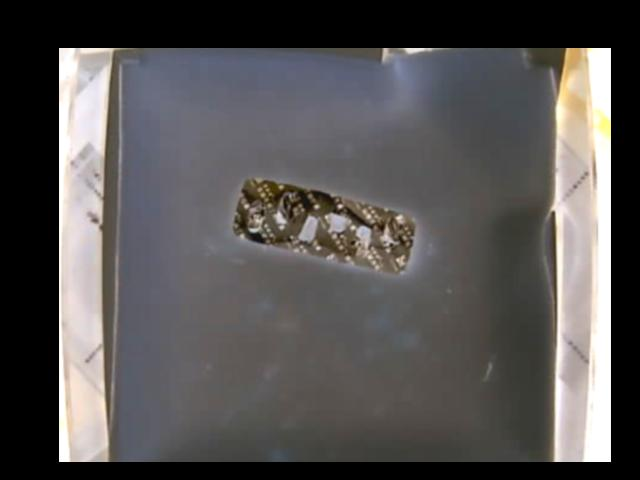Medicine: (232, 176, 419, 274)
